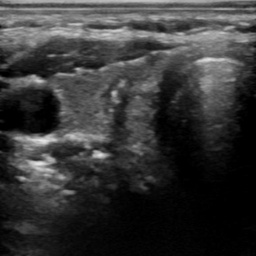mass: (65, 74, 104, 134)
